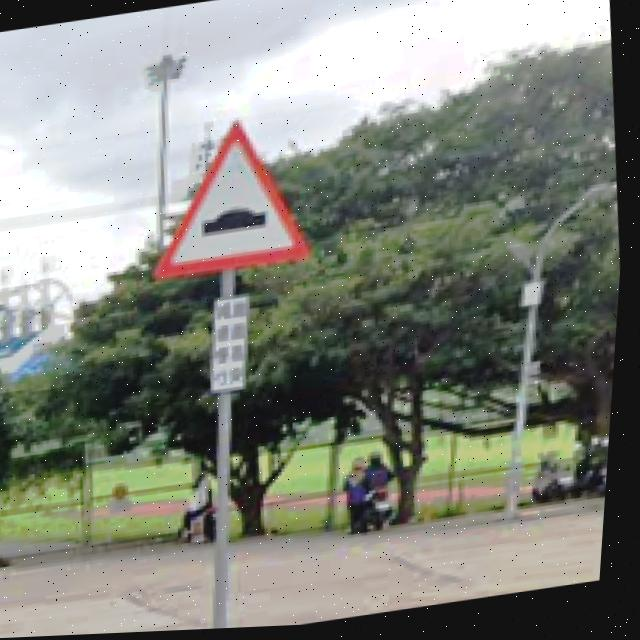hump: (157, 126, 314, 280)
